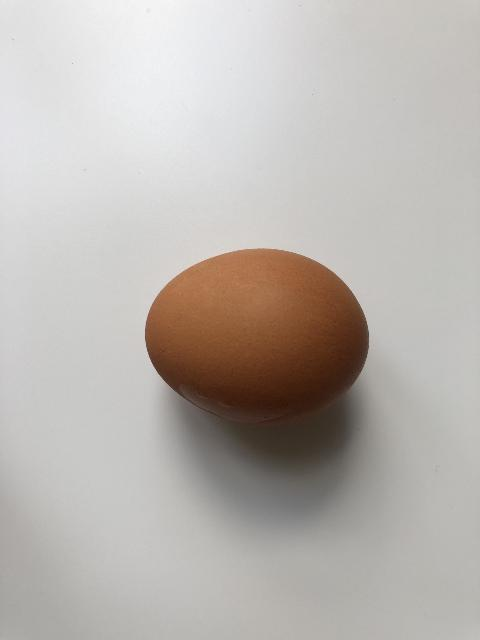Sano: (144, 246, 370, 427)
